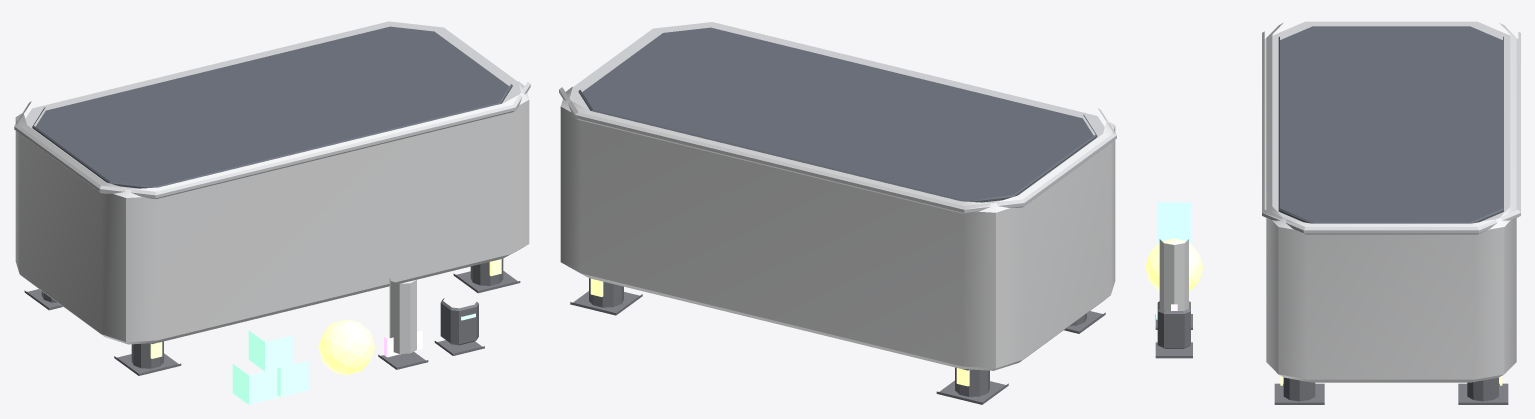
The model's file is iter_04.glb.
3 views of the same model, side by side, from view 1: azimuth 30°, elevation 25°; view 2: azimuth 150°, elevation 25°; view 3: azimuth 270°, elevation 25° (orthographic). The views are drawn at different scales.
Parts seen in each view (by area): view 1: Tub, Soft_Net_Lid, Tub_Rim, Toy_Blocks, Toy_Ball, Toy_Rocket, Toy_Sprocket, Floor_Plates, Casters, Mag_Pads; view 2: Tub, Soft_Net_Lid, Tub_Rim, Floor_Plates, Casters; view 3: Soft_Net_Lid, Tub, Tub_Rim, Toy_Rocket, Toy_Sprocket, Toy_Blocks, Casters, Floor_Plates, Toy_Ball, Mag_Pads.
Part boxes in pixels (bbox=[...]): Tub: bbox=[15, 81, 529, 344]; Soft_Net_Lid: bbox=[32, 26, 512, 188]; Tub_Rim: bbox=[14, 21, 530, 198]; Toy_Blocks: bbox=[232, 330, 308, 404]; Toy_Ball: bbox=[318, 319, 375, 375]; Toy_Rocket: bbox=[389, 278, 416, 353]; Toy_Sprocket: bbox=[440, 298, 478, 345]; Floor_Plates: bbox=[24, 271, 520, 375]; Casters: bbox=[41, 258, 503, 368]; Mag_Pads: bbox=[378, 340, 484, 369]; Tub: bbox=[560, 86, 1115, 370]; Soft_Net_Lid: bbox=[578, 27, 1097, 202]; Tub_Rim: bbox=[559, 22, 1116, 213]; Floor_Plates: bbox=[570, 291, 1105, 404]; Casters: bbox=[589, 278, 1086, 396]; Soft_Net_Lid: bbox=[1278, 26, 1503, 223]; Tub: bbox=[1266, 23, 1516, 382]; Tub_Rim: bbox=[1262, 21, 1520, 234]; Toy_Rocket: bbox=[1159, 239, 1188, 310]; Toy_Sprocket: bbox=[1157, 301, 1190, 348]; Toy_Blocks: bbox=[1157, 202, 1190, 243]; Casters: bbox=[1283, 377, 1498, 401]; Floor_Plates: bbox=[1274, 383, 1508, 404]; Toy_Ball: bbox=[1145, 238, 1203, 291]; Mag_Pads: bbox=[1155, 314, 1192, 358].
Bounding box in the file's own units: 1.22 × 0.5 × 0.9.
